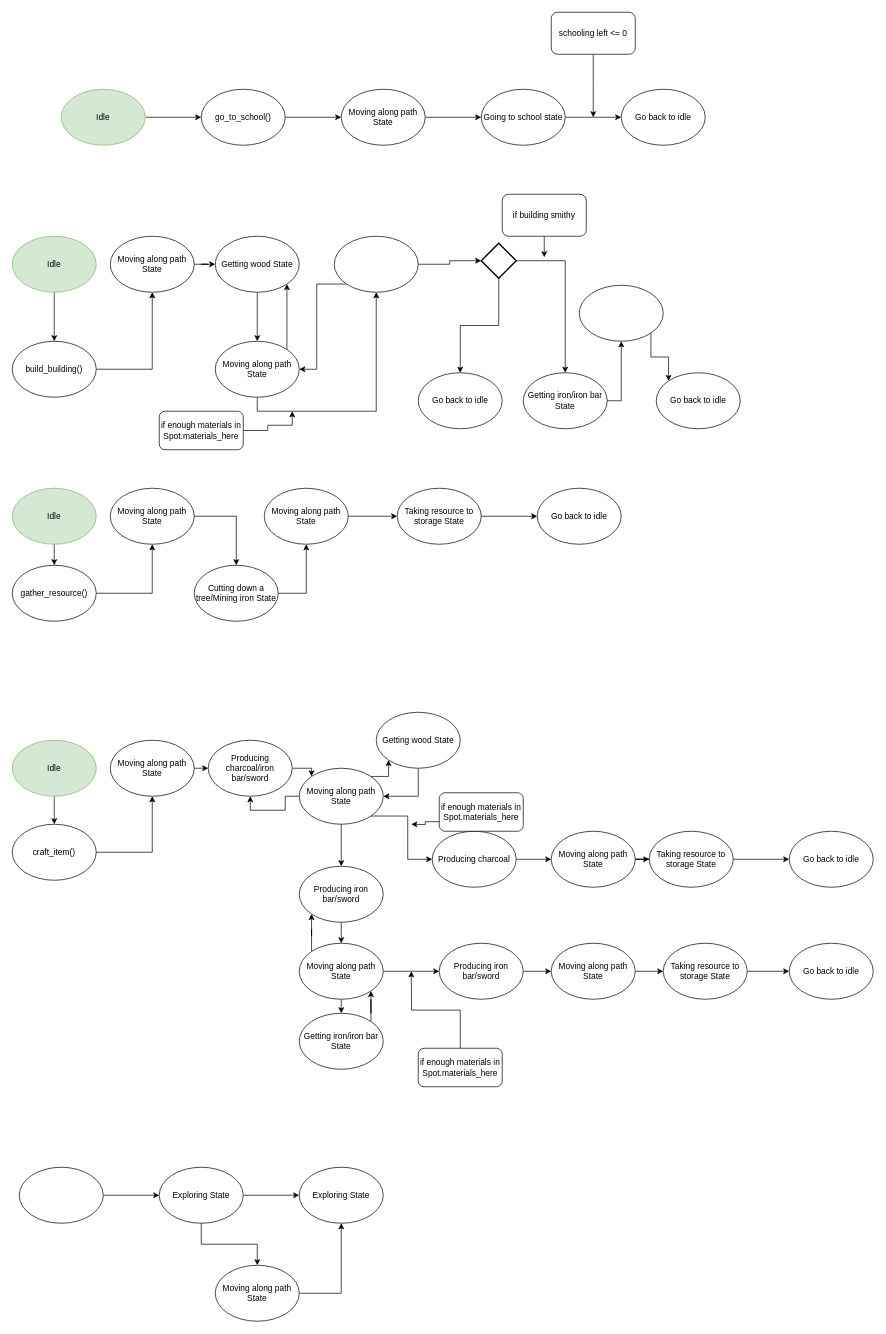
The diagram is 886 pixels wide and 1334 high, and some of its shapes have lost their labels. Here are the shapes that lost their labels. From the top down, the centre of each, then its label:
point (376, 264): Building kiln/forge/smithy/training camp State
point (621, 313): Building smithy State
point (61, 1195): Go to school State
